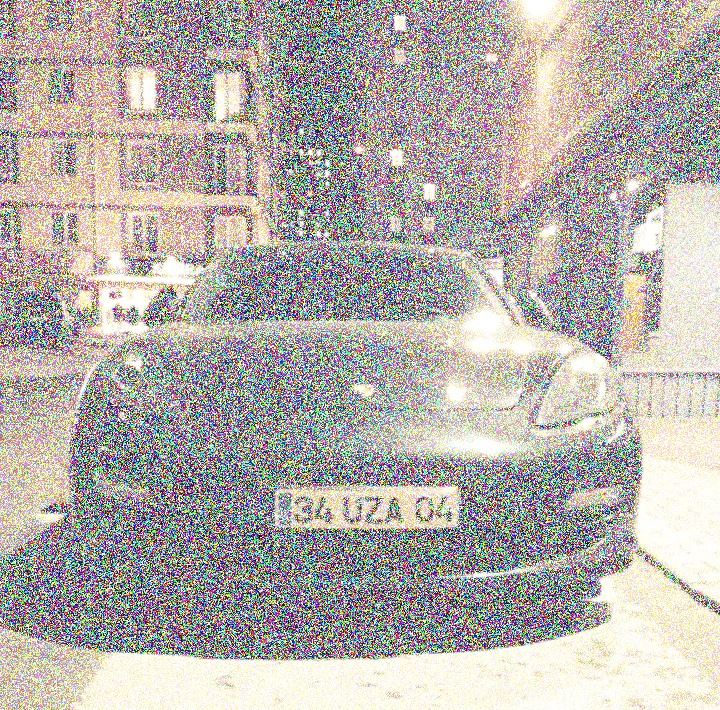plaka: (295, 491, 457, 527)
